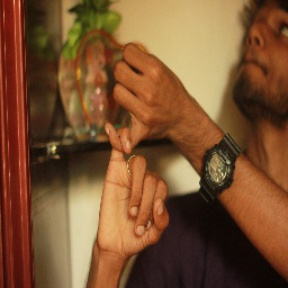S: (94, 41, 184, 252)
